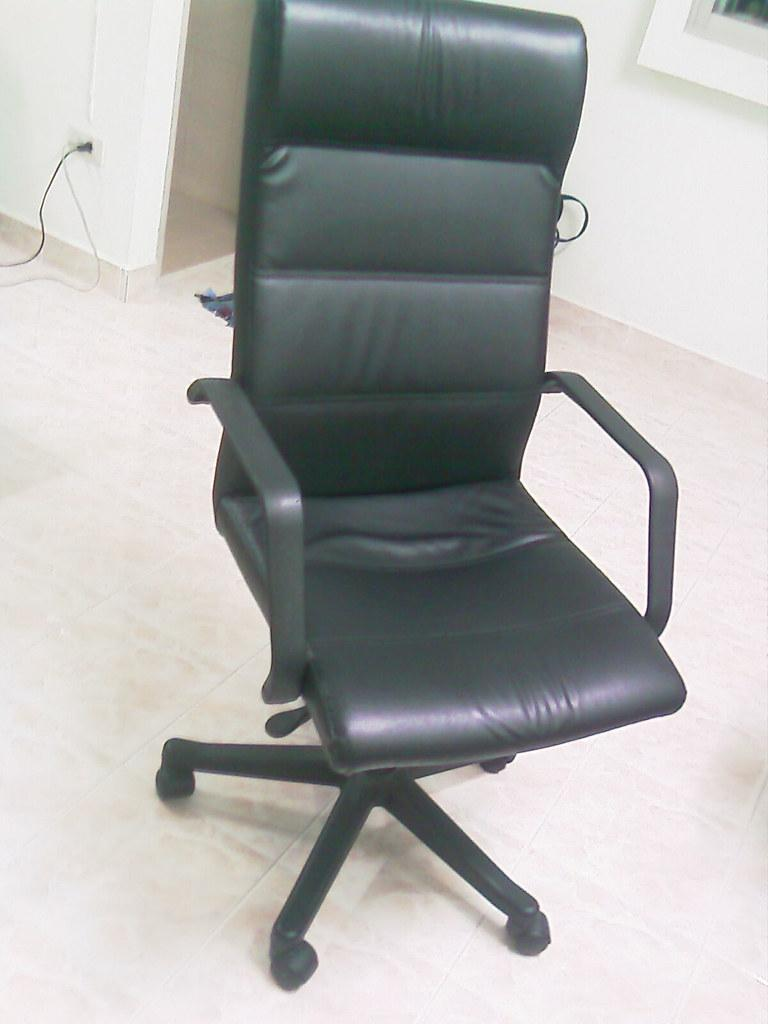chair: (155, 1, 688, 993)
